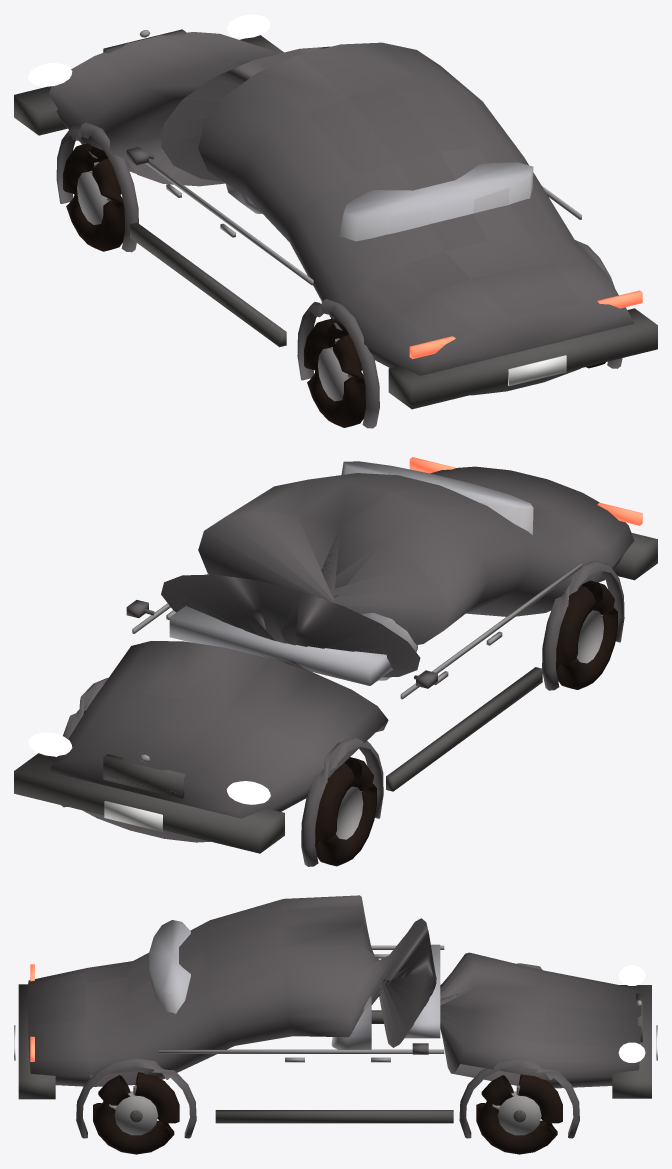
The model's file is sedan.glb.
The picture shows the model from 3 angles, top to bottom: view 1: azimuth 30°, elevation 25°; view 2: azimuth 150°, elevation 25°; view 3: azimuth 270°, elevation 25°; orthographic projection. The views are drawn at different scales.
Visible parts, largest first — view 1: Body, WheelRL, WheelFL; view 2: Body, WheelRL, WheelFL; view 3: Body, WheelRR, WheelFR.
Boxes of the visible parts, box(x1,y1,x2,y2) form: Body: box(14, 14, 657, 428); WheelRL: box(304, 318, 365, 427); WheelFL: box(63, 143, 124, 251); Body: box(14, 457, 657, 866); WheelRL: box(556, 580, 617, 689); WheelFL: box(315, 757, 376, 866); Body: box(14, 895, 657, 1138); WheelRR: box(93, 1072, 179, 1154); WheelFR: box(476, 1074, 562, 1154).
Size of the model in its own units: 2.1 by 1.59 by 4.87.
Materials: 9 (6 with a texture image).
